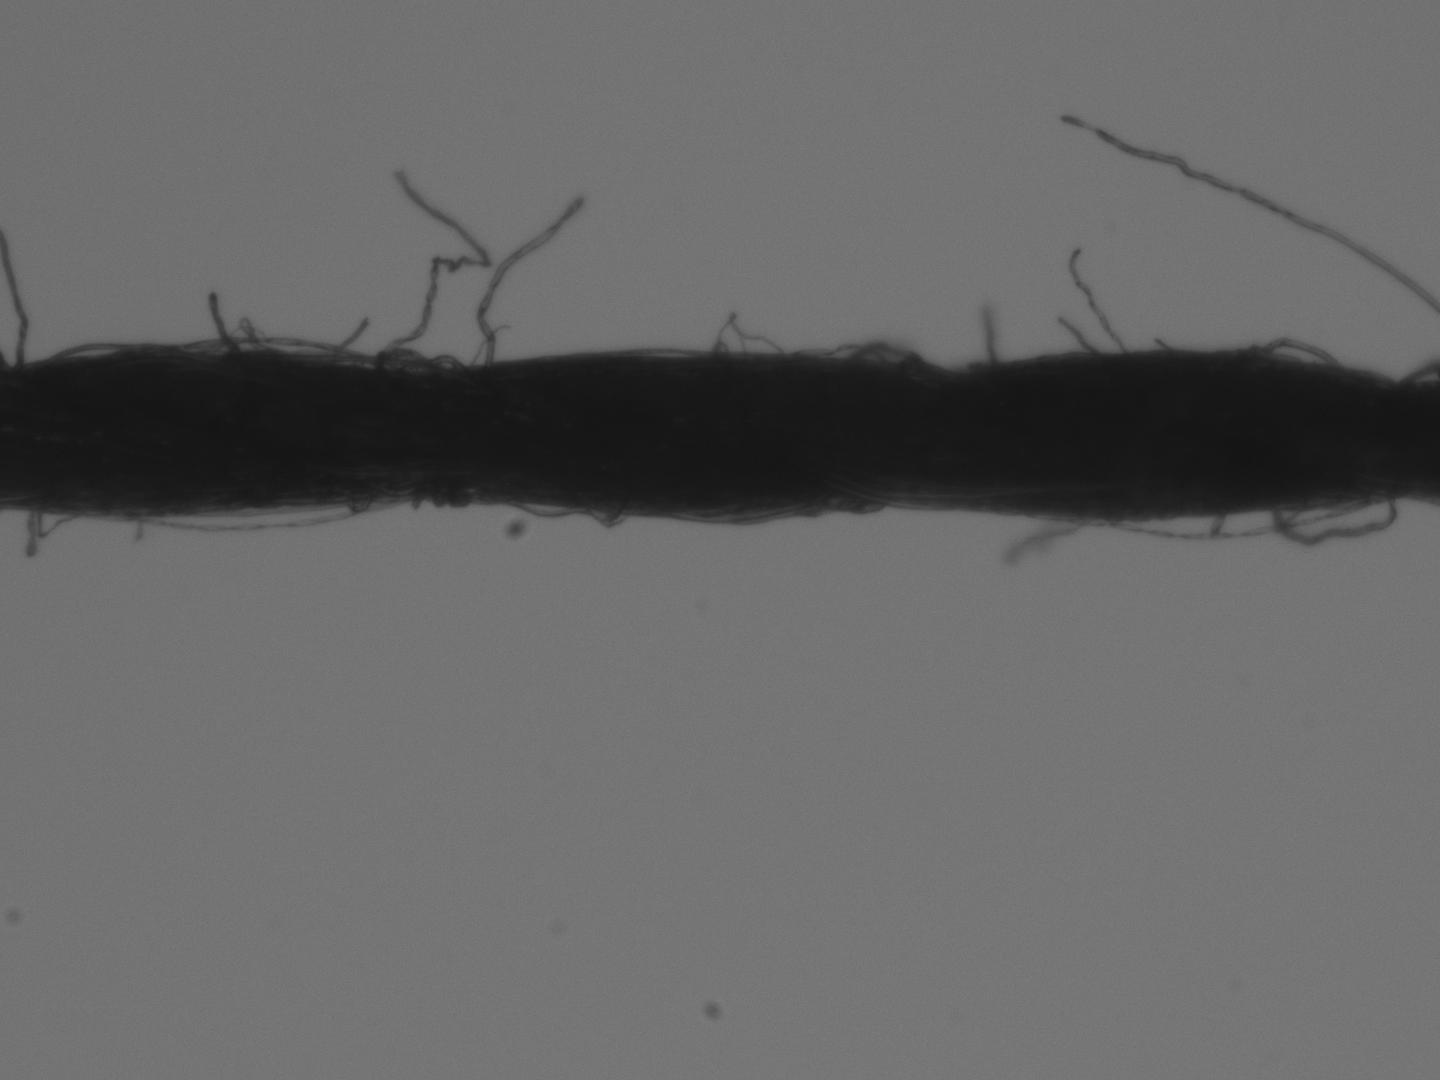loop_fiber: (146, 498, 384, 533), (1278, 499, 1399, 546), (189, 335, 380, 362), (1271, 337, 1342, 369), (850, 343, 917, 372), (499, 501, 598, 521), (378, 348, 435, 372), (586, 507, 637, 533), (417, 351, 467, 369), (899, 352, 942, 370)
protruding_fiber: (1061, 111, 1439, 302), (386, 175, 488, 360), (481, 200, 585, 370), (1070, 242, 1129, 352), (207, 288, 239, 366), (1059, 314, 1101, 358), (984, 307, 999, 368)
